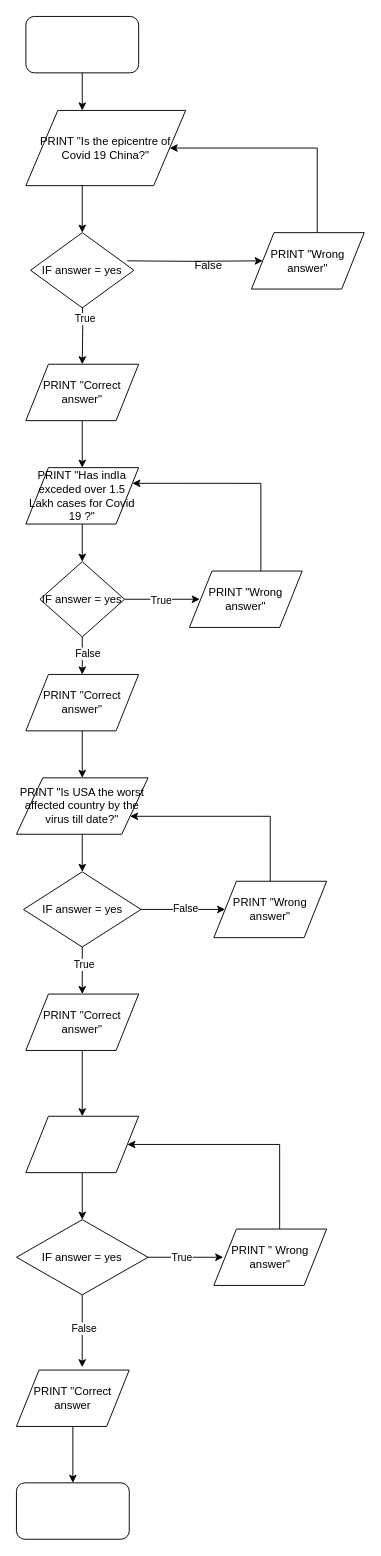
This 381x1556 diagram has some shape labels left out. The box of each missing label's shape, as (x1, y1, x2, y2) in pixels:
END: (16, 1482, 129, 1539)
PRINT "Is Uttar Pradesh the worst affected state in india by Covid 19.: (25, 1115, 139, 1173)
START: (25, 16, 139, 73)
